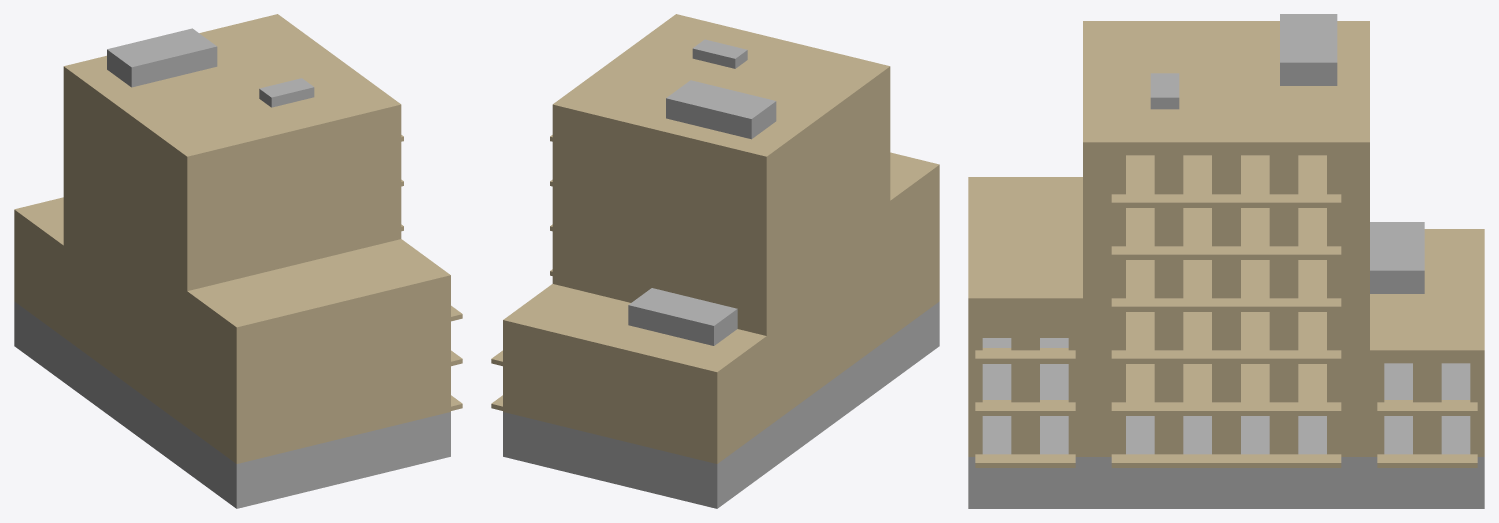
The model's file is Flat4.fbx.
The picture shows the model from 3 angles, left to right: view 1: azimuth 30°, elevation 25°; view 2: azimuth 150°, elevation 25°; view 3: azimuth 270°, elevation 25°; orthographic projection. The views are drawn at different scales.
Visible parts, largest first — view 1: Cube.047, Cube.046, Cube.004, Cube.044, Cube, Cube.005, Cube.010, Cube.065, Cube.030, Cube.031, Cube.069, Cube.045 (+2 smaller); view 2: Cube.045, Cube.047, Cube.044, Cube, Cube.029, Cube.031, Cube.010, Cube.030, Cube.065, Cube.032, Cube.005, Cube.069 (+2 smaller); view 3: Cube, Cube.044, Cube.005, Cube.052, Cube.050, Cube.031, Cube.003, Cube.043, Cube.001, Cube.002, Cube.042, Cube.065 (+30 smaller).
Boxes of the visible parts, bbox=[...] form: Cube.047: bbox=[66, 70, 184, 425]; Cube.046: bbox=[184, 109, 401, 427]; Cube.004: bbox=[234, 281, 450, 463]; Cube.044: bbox=[63, 14, 401, 160]; Cube: bbox=[14, 301, 450, 508]; Cube.005: bbox=[187, 239, 450, 331]; Cube.010: bbox=[187, 294, 240, 463]; Cube.065: bbox=[107, 28, 217, 87]; Cube.030: bbox=[14, 213, 63, 336]; Cube.031: bbox=[14, 197, 63, 248]; Cube.069: bbox=[259, 78, 314, 107]; Cube.045: bbox=[63, 69, 65, 338]; Cube.045: bbox=[552, 107, 769, 427]; Cube.047: bbox=[769, 70, 887, 425]; Cube.044: bbox=[552, 14, 890, 159]; Cube: bbox=[503, 301, 939, 508]; Cube.029: bbox=[507, 325, 719, 463]; Cube.031: bbox=[503, 284, 766, 375]; Cube.010: bbox=[890, 169, 939, 336]; Cube.030: bbox=[713, 338, 766, 463]; Cube.065: bbox=[666, 80, 776, 139]; Cube.032: bbox=[628, 288, 737, 345]; Cube.005: bbox=[890, 152, 939, 202]; Cube.069: bbox=[692, 39, 747, 68]; Cube: bbox=[968, 338, 1484, 508]; Cube.044: bbox=[1083, 21, 1369, 147]; Cube.005: bbox=[968, 177, 1082, 303]; Cube.052: bbox=[1327, 144, 1366, 456]; Cube.050: bbox=[1086, 144, 1125, 456]; Cube.031: bbox=[1370, 229, 1484, 355]; Cube.003: bbox=[1083, 260, 1369, 303]; Cube.043: bbox=[1126, 155, 1326, 191]; Cube.001: bbox=[1126, 364, 1326, 399]; Cube.002: bbox=[1126, 312, 1326, 347]; Cube.042: bbox=[1126, 208, 1326, 243]; Cube.065: bbox=[1280, 14, 1337, 85].
Bounding box in the file's own units: 1070 × 1500 × 1800.
